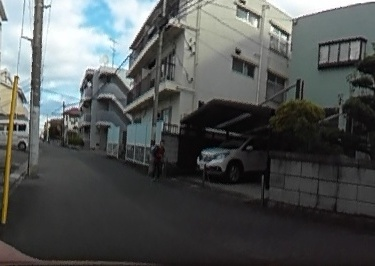person: (151, 138, 166, 177)
